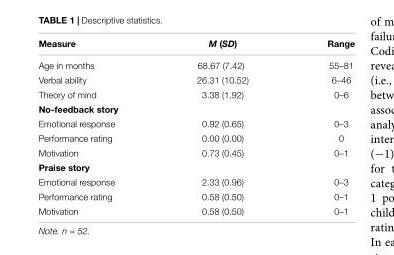table: (37, 37, 354, 215)
table column: (156, 37, 287, 215), (37, 37, 156, 215), (287, 37, 354, 215)
table column header: (37, 37, 354, 53)
table projected row header: (37, 101, 354, 115), (37, 159, 354, 173)
table row: (37, 53, 354, 71), (37, 37, 354, 53), (37, 71, 354, 86), (37, 86, 354, 101), (37, 115, 354, 130), (37, 144, 354, 159), (37, 173, 354, 188), (37, 188, 354, 203), (37, 101, 354, 115), (37, 130, 354, 144), (37, 159, 354, 173), (37, 203, 354, 215)
